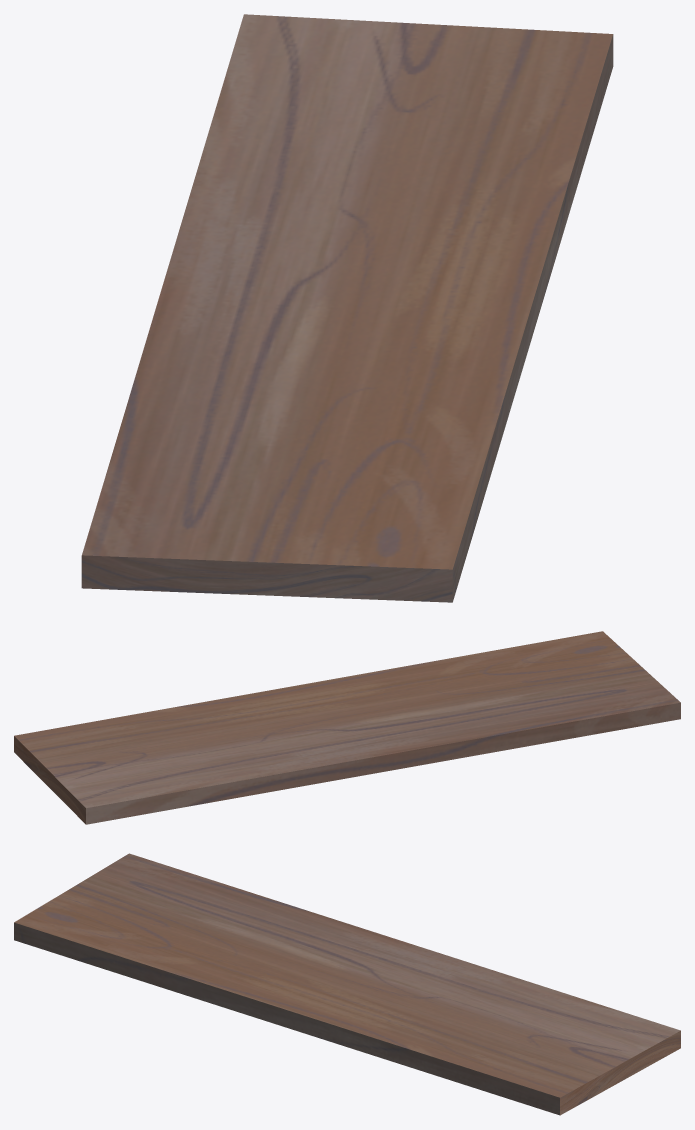
The model's file is plank_040.fbx.
3 views of the same model, one above another, from view 1: azimuth 30°, elevation 25°; view 2: azimuth 150°, elevation 25°; view 3: azimuth 270°, elevation 25° (orthographic). The views are drawn at different scales.
Visible parts, largest first — view 1: plank.040; view 2: plank.040; view 3: plank.040.
Boxes of the visible parts, x1=… form: plank.040: x1=81, y1=14, x2=613, y2=602; plank.040: x1=14, y1=631, x2=680, y2=824; plank.040: x1=14, y1=853, x2=680, y2=1115.
Size of the model in its own units: 29.4 by 0.9957 by 33.92.
